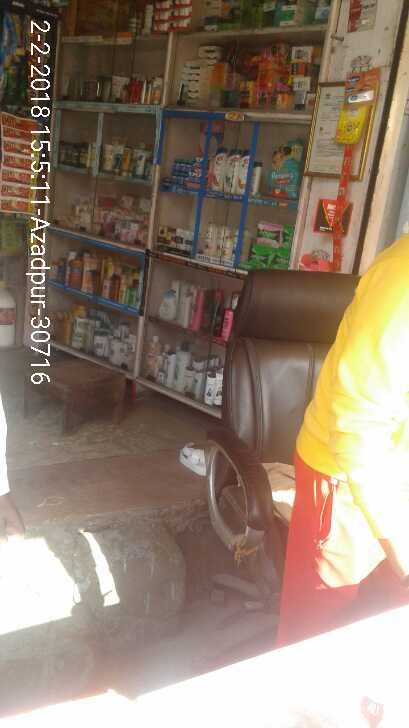vicks: (170, 154, 203, 186)
